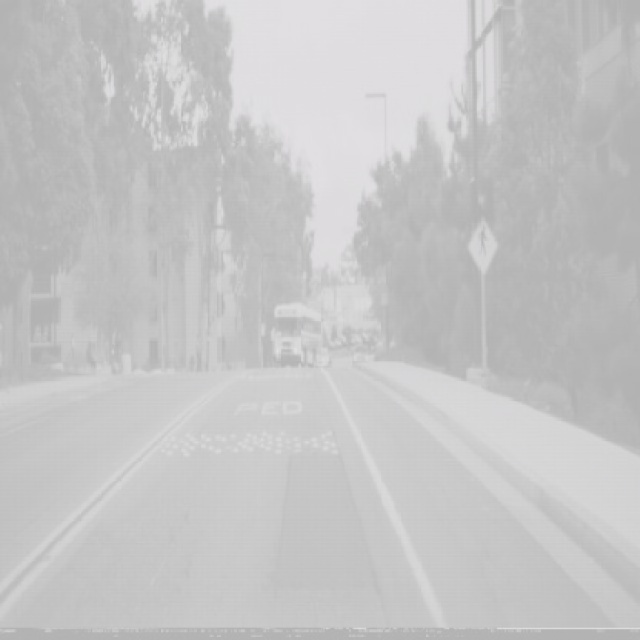pedestrianCrossing: (468, 214, 499, 276)
